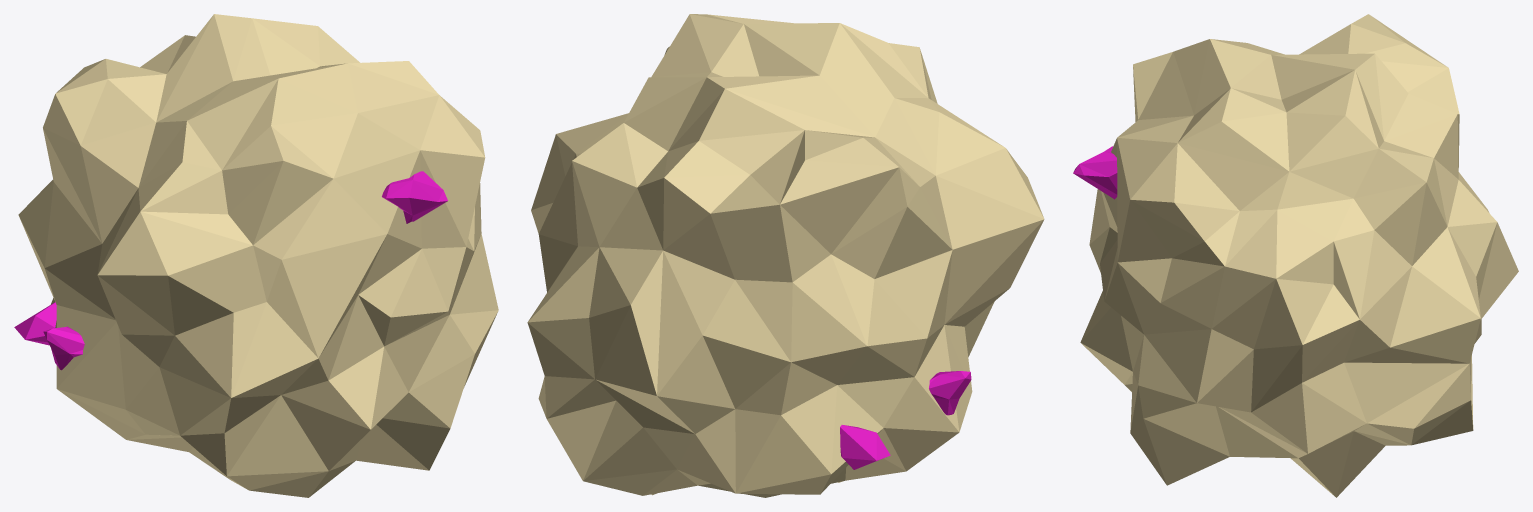
File: CrystalOre (45).fbx
3 views of the same model, side by side, from view 1: azimuth 30°, elevation 25°; view 2: azimuth 150°, elevation 25°; view 3: azimuth 270°, elevation 25° (orthographic). The views are drawn at different scales.
Parts seen in each view (by area): view 1: Asteroid265; view 2: Asteroid265; view 3: Asteroid265.
Part boxes in pixels (box(x1,y1,x2,y2)): Asteroid265: box(14, 14, 498, 497); Asteroid265: box(527, 14, 1044, 497); Asteroid265: box(1073, 14, 1518, 497).
Bounding box in the file's own units: 412 × 389 × 387.
